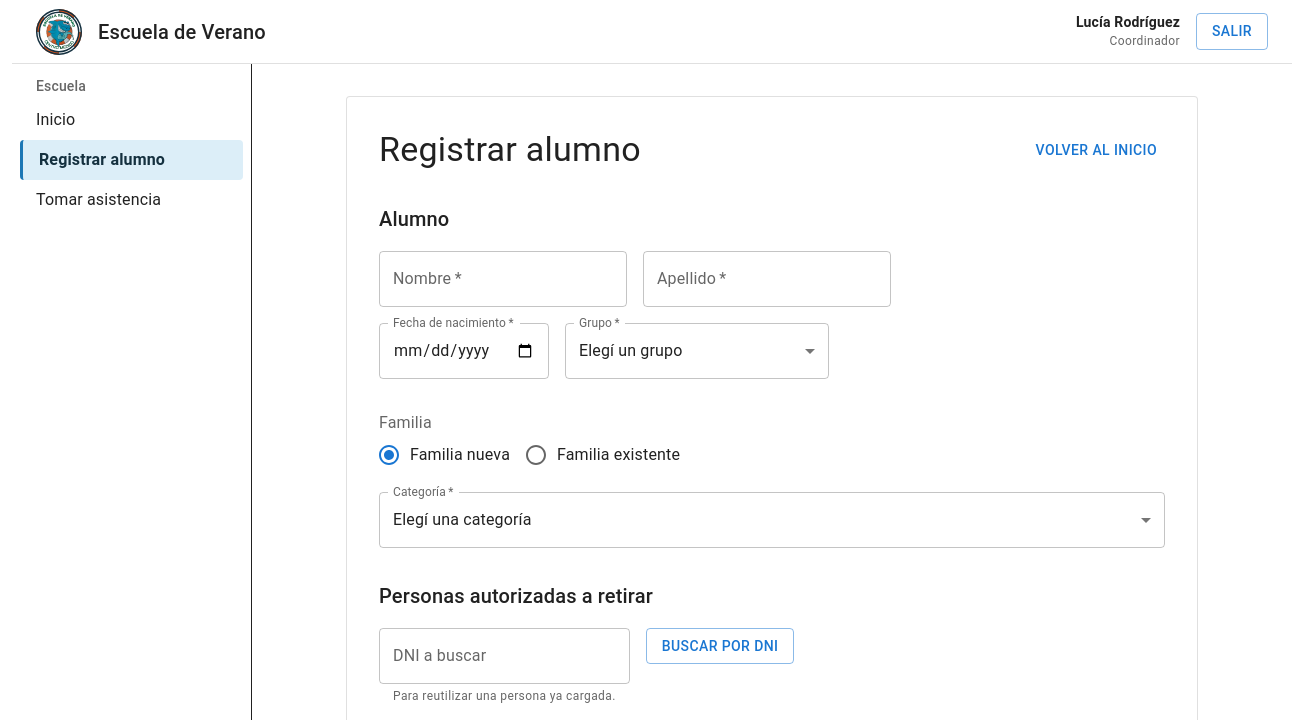
Moverse desde el menú › De registrar alumno a tomar asistencia
This screenshot has width=1292, height=720.
Expected: the text "Lucía Rodríguez" is shown, [1076, 12, 1180, 32]
Step 1. Click the link "Tomar asistencia" → click(99, 200), box [36, 190, 161, 209]
(page scrolled)
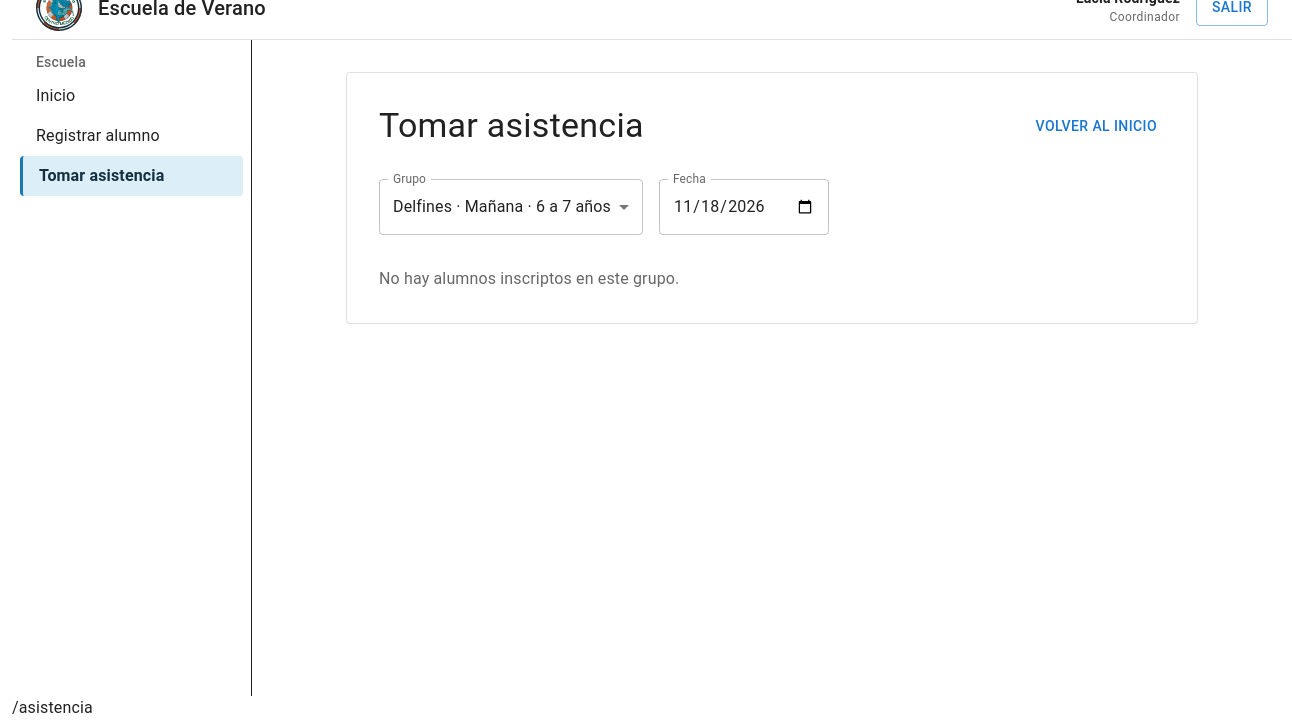
Now the text named "dirección actual" reads "/asistencia", box [12, 698, 93, 717]
